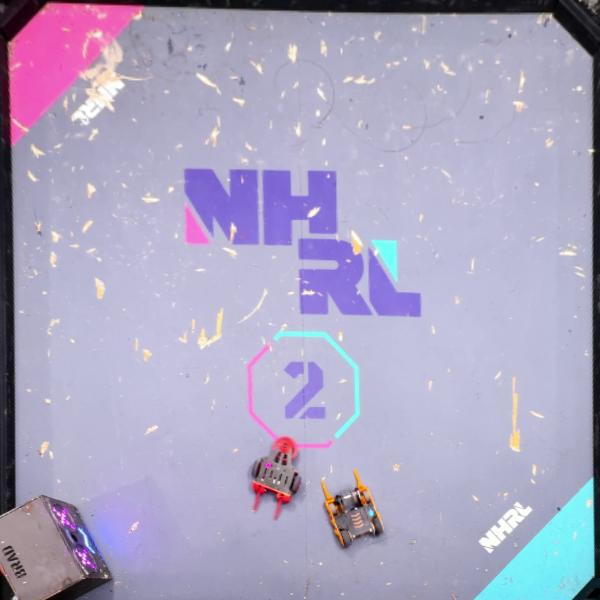housebot: (0, 492, 114, 600)
robot: (320, 468, 384, 550), (246, 434, 304, 522)
